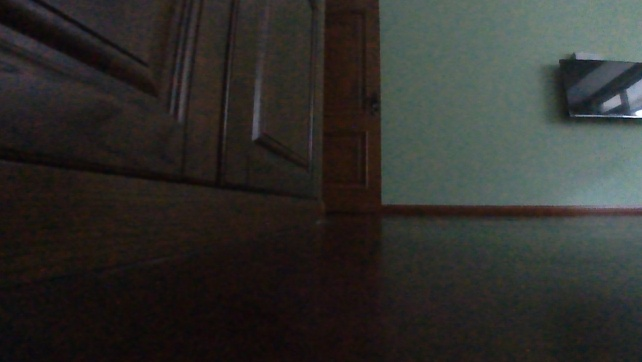door_anno: (324, 0, 385, 225)
